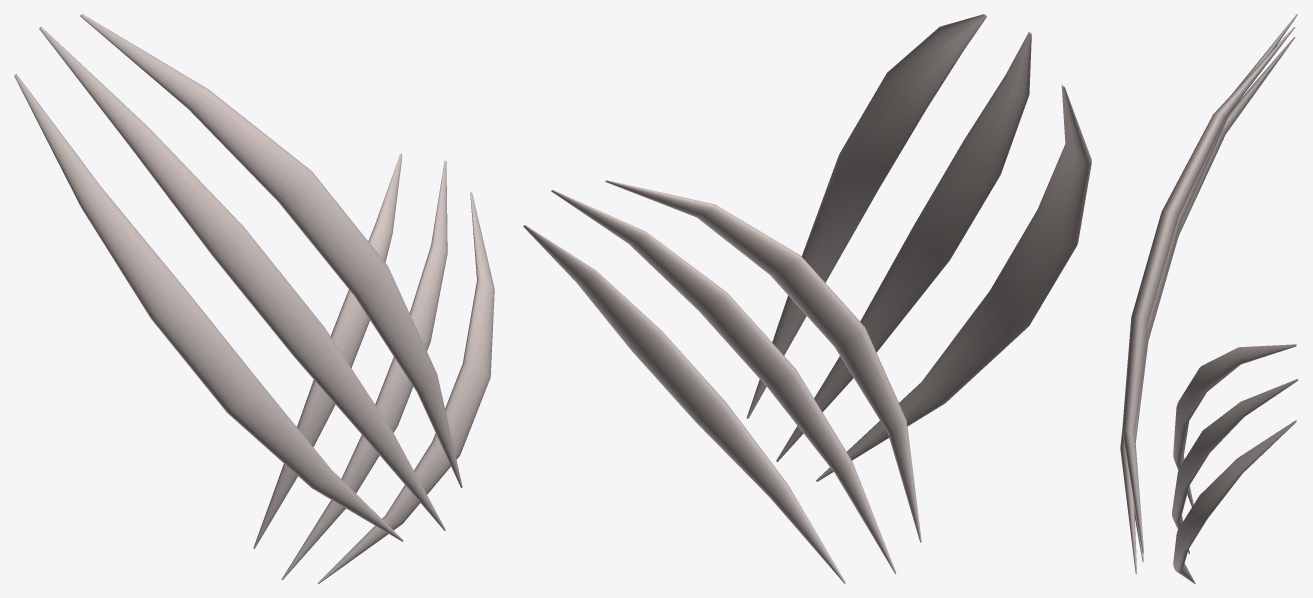
The model's file is kazumisClaws.FBX.
3 renders of one model, left to right at view 1: azimuth 30°, elevation 25°; view 2: azimuth 150°, elevation 25°; view 3: azimuth 270°, elevation 25°, orthographic. The views are drawn at different scales.
Visible parts, largest first — view 1: Claws; view 2: Claws; view 3: Claws.
Boxes of the visible parts, bbox=[...] form: Claws: bbox=[14, 14, 494, 583]; Claws: bbox=[523, 14, 1091, 583]; Claws: bbox=[1120, 14, 1298, 583].
Size of the model in its own units: 9.81 by 11.65 by 3.9.
1 material, 1 textured.
